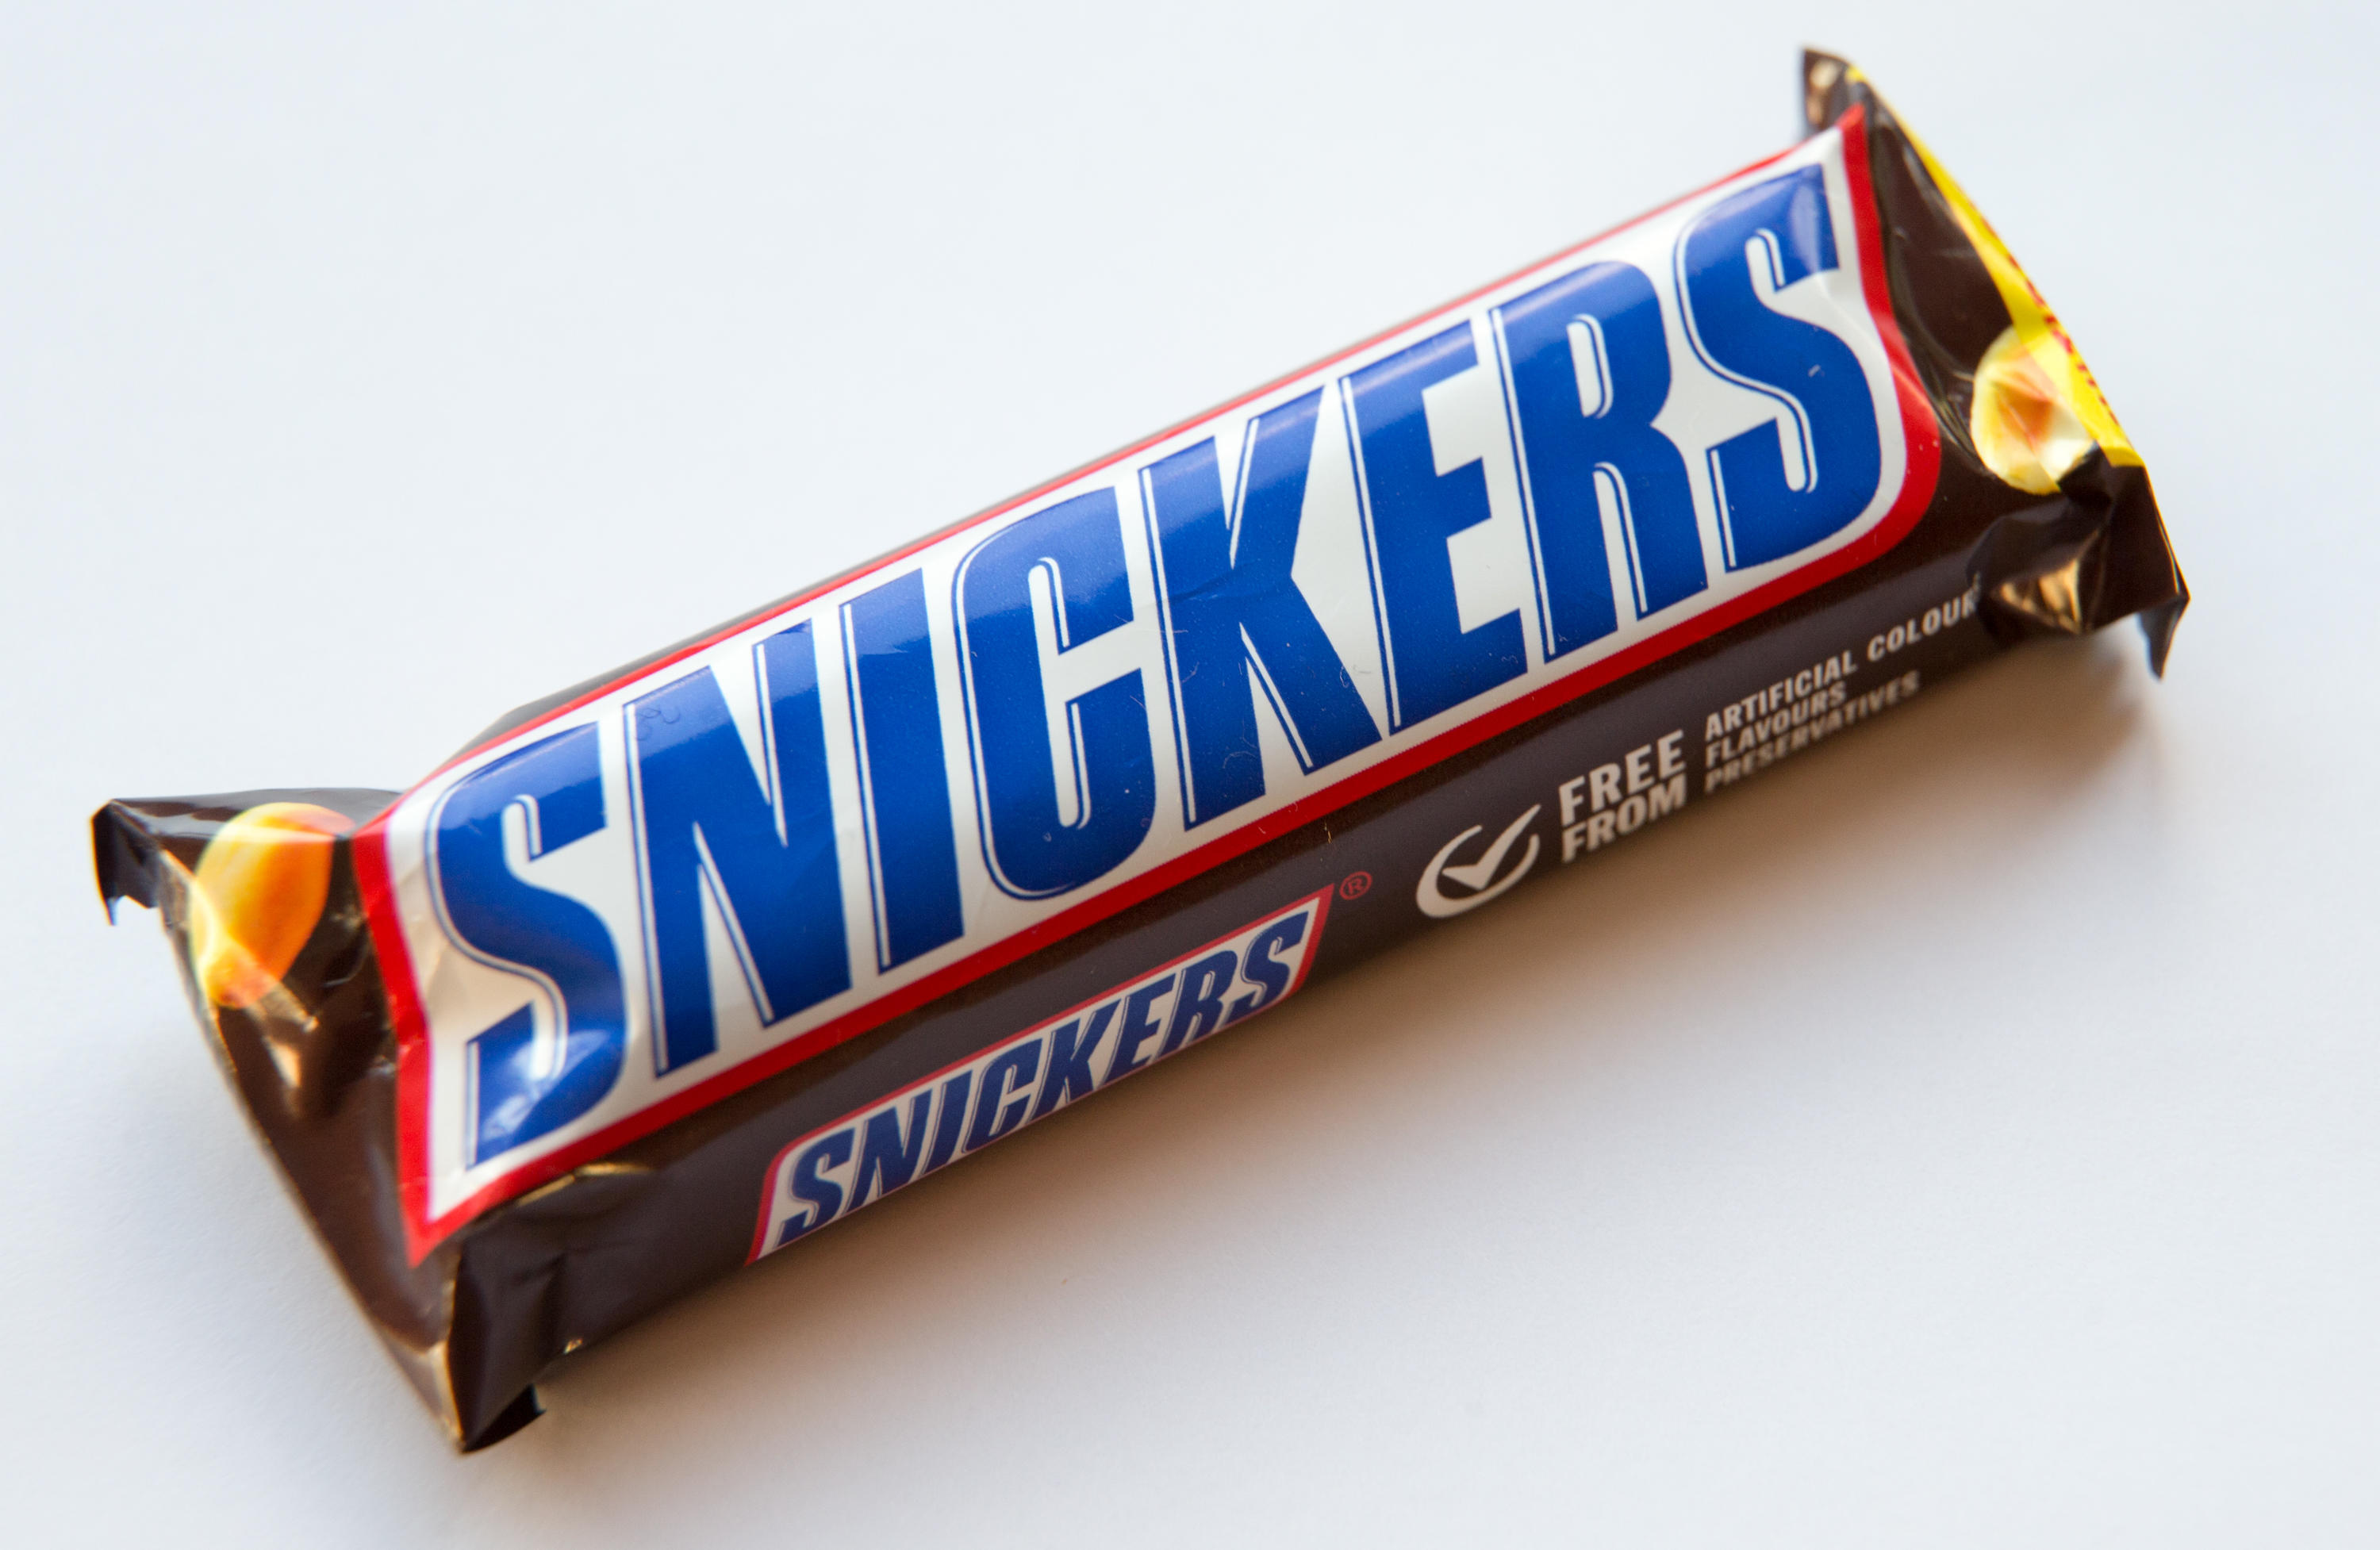snickers: (430, 161, 1882, 1167), (430, 161, 1882, 1047), (454, 147, 1882, 1047), (781, 907, 1320, 1283), (781, 907, 1310, 1283), (781, 907, 1310, 1245)
